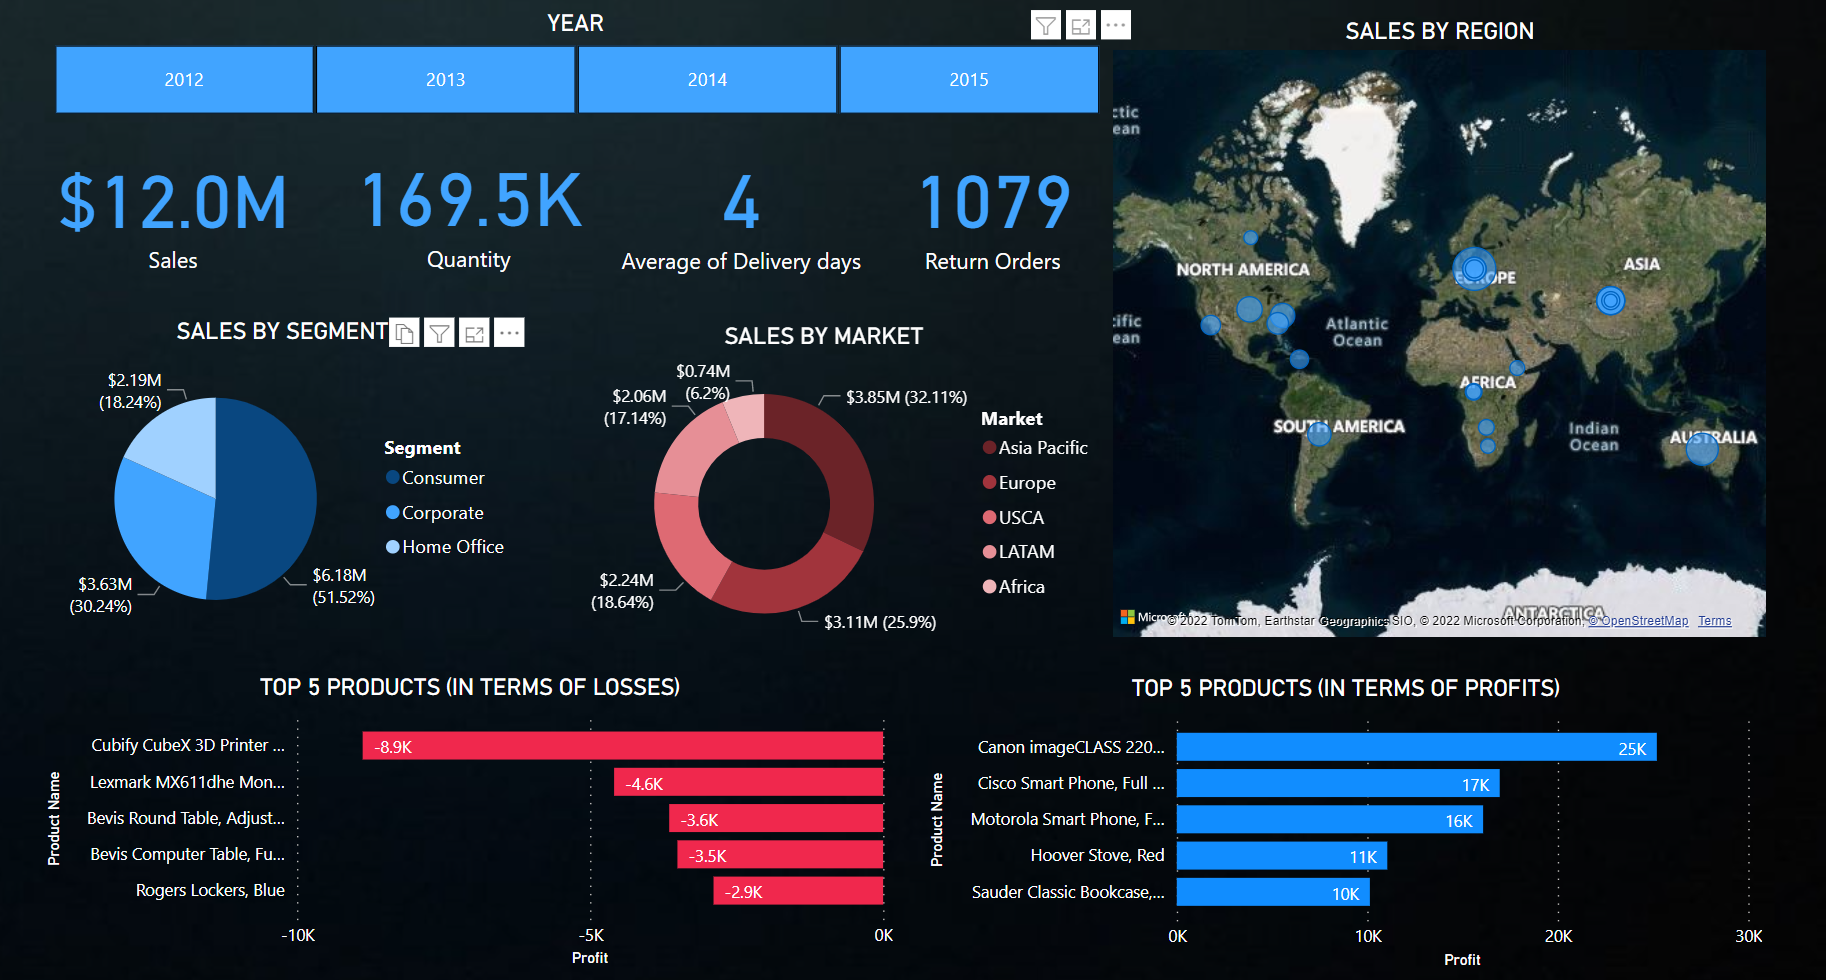

The dashboard page shown, as its layout file describes it:
{"tool":"powerbi","page":{"name":"Page 1","canvas":[1280,720],"ordinal":0},"visuals":[{"type":"card","fields":{"Values":["Sum(Orders.Sales)"]},"box":[0,98.9,224.3,106.1],"z":0},{"type":"card","fields":{"Values":["Sum(Orders.Quantity)"]},"box":[223.1,71.2,208.6,160.4],"z":1000},{"type":"card","fields":{"Values":["Avg(Orders.Delivery days)"]},"box":[417.3,82,215.9,139.9],"z":2000},{"type":"slicer","title":"YEAR","fields":{"Values":["Orders.Year"]},"box":[0,8.4,809.2,83.2],"z":3000},{"type":"card","fields":{"Values":["Sum(Returns.Return Orders)"]},"box":[621.1,97.9,174.9,108.5],"z":4000},{"type":"map","title":"SALES BY REGION","fields":{"Size":["Sum(Orders.Sales)"],"Category":["Orders.Region"]},"box":[791.2,13.3,484.8,455.9],"z":5000},{"type":"barChart","title":"TOP 5 PRODUCTS (IN TERMS OF PROFITS)","fields":{"Y":["Sum(Orders.Profit)"],"Category":["Orders.Product Name"]},"box":[657.3,492.1,615.1,218.3],"z":6000},{"type":"barChart","title":"TOP 5 PRODUCTS (IN TERMS OF LOSSES)","fields":{"Y":["Sum(Orders.Profit)"],"Category":["Orders.Product Name"]},"box":[15.7,490.9,624.7,218.3],"z":7000},{"type":"pieChart","title":"SALES BY SEGMENT","fields":{"Category":["Orders.Segment"],"Y":["Sum(Orders.Sales)"]},"box":[15.7,231.6,352.2,246],"z":8000},{"type":"donutChart","title":"SALES BY MARKET","fields":{"Y":["Sum(Orders.Sales)"],"Category":["Orders.Market"]},"box":[378.7,235.2,412.5,246],"z":8001}]}

Visuals, with their boxes on the page's 1280x720 design canvas (x1, y1, x2, y2). These are canvas units, not pixel positions in the 1826x980 screenshot, which may show the page scaled, cropped or inside an application window:
card - Sum(Orders.Sales): select_region(0, 99, 224, 205)
card - Sum(Orders.Quantity): select_region(223, 71, 432, 232)
card - Avg(Orders.Delivery days): select_region(417, 82, 633, 222)
"YEAR" slicer: select_region(0, 8, 809, 92)
card - Sum(Returns.Return Orders): select_region(621, 98, 796, 206)
"SALES BY REGION" map: select_region(791, 13, 1276, 469)
"TOP 5 PRODUCTS (IN TERMS OF PROFITS)" barChart: select_region(657, 492, 1272, 710)
"TOP 5 PRODUCTS (IN TERMS OF LOSSES)" barChart: select_region(16, 491, 640, 709)
"SALES BY SEGMENT" pieChart: select_region(16, 232, 368, 478)
"SALES BY MARKET" donutChart: select_region(379, 235, 791, 481)
